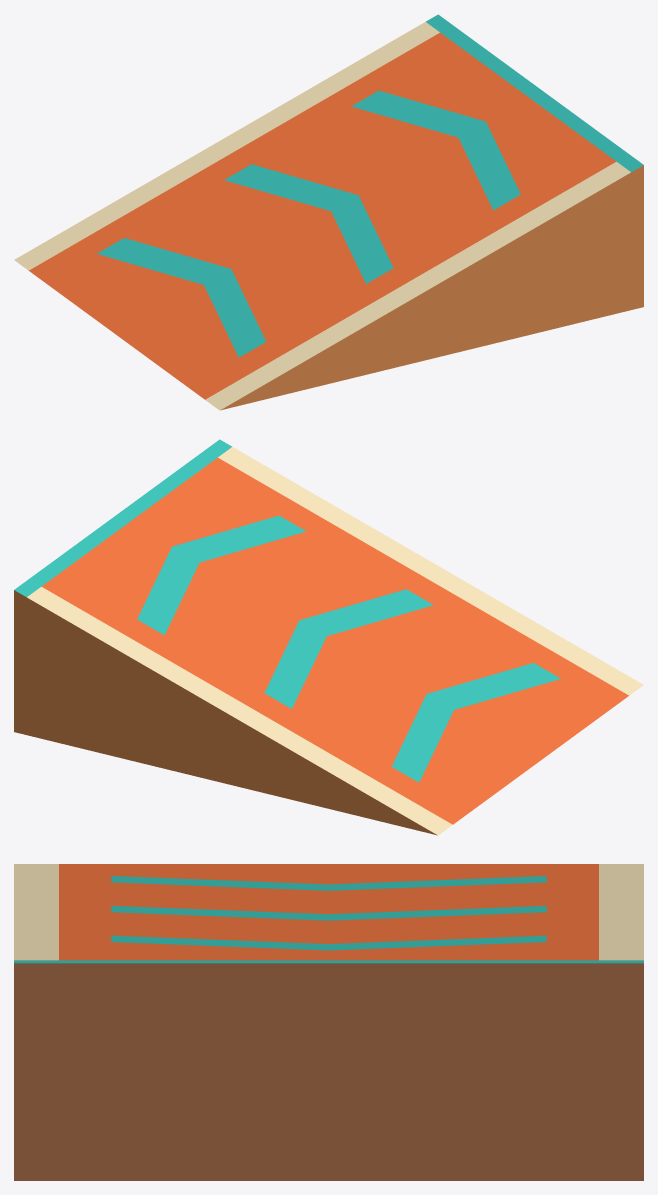
File: ramp_canyon.glb
3 views of the same model, one above another, from view 1: azimuth 30°, elevation 25°; view 2: azimuth 150°, elevation 25°; view 3: azimuth 270°, elevation 25° (orthographic). The views are drawn at different scales.
Parts seen in each view (by area): view 1: ramp_core; view 2: ramp_core; view 3: ramp_core.
Boxes of the visible parts, left/top/right/bottom form: ramp_core: left=14, top=14, right=643, bottom=410; ramp_core: left=14, top=439, right=643, bottom=835; ramp_core: left=14, top=864, right=643, bottom=1180.
Bounding box in the file's own units: 10 × 3.2 × 8.4.
